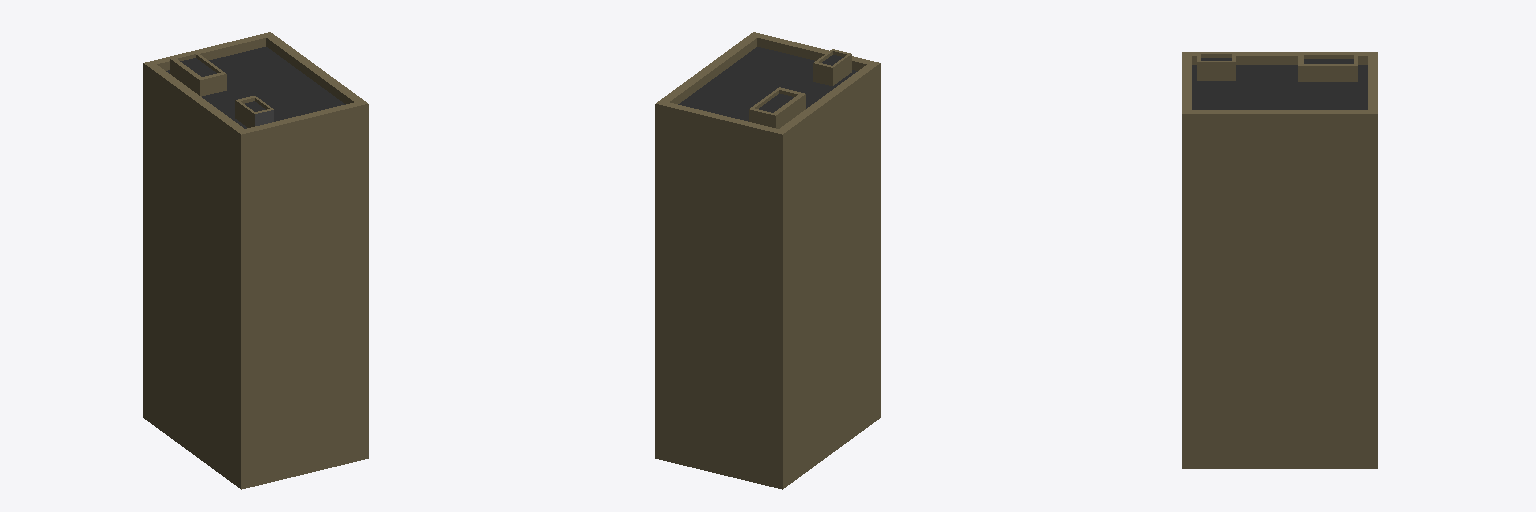
File: highrise_3.obj
The picture shows the model from 3 angles: view 1: azimuth 30°, elevation 25°; view 2: azimuth 150°, elevation 25°; view 3: azimuth 270°, elevation 25°; orthographic projection.
Parts seen in each view (by area): view 1: Mesh1 Model; view 2: Mesh1 Model; view 3: Mesh1 Model.
Boxes of the visible parts, <box> form: Mesh1 Model: <box>143,32,368,489</box>; Mesh1 Model: <box>655,32,880,489</box>; Mesh1 Model: <box>1182,52,1377,468</box>.
Bounding box in the file's own units: 15 × 41.09 × 20.